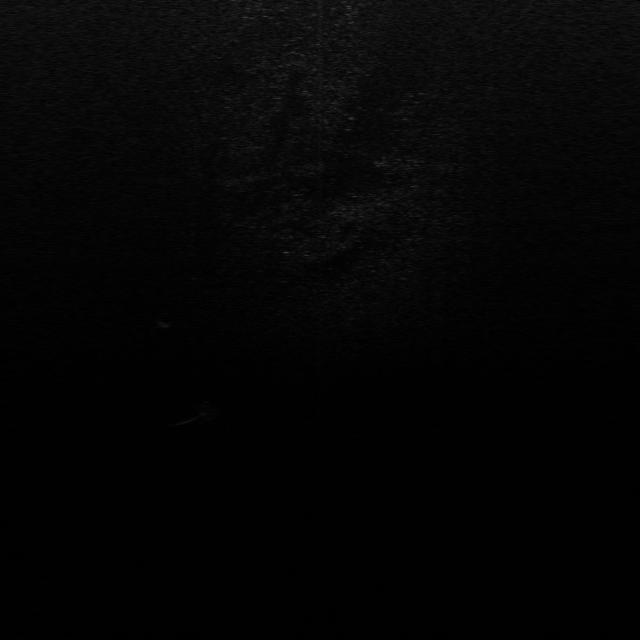ball: (191, 397, 223, 422)
circle cage: (156, 309, 180, 328)
